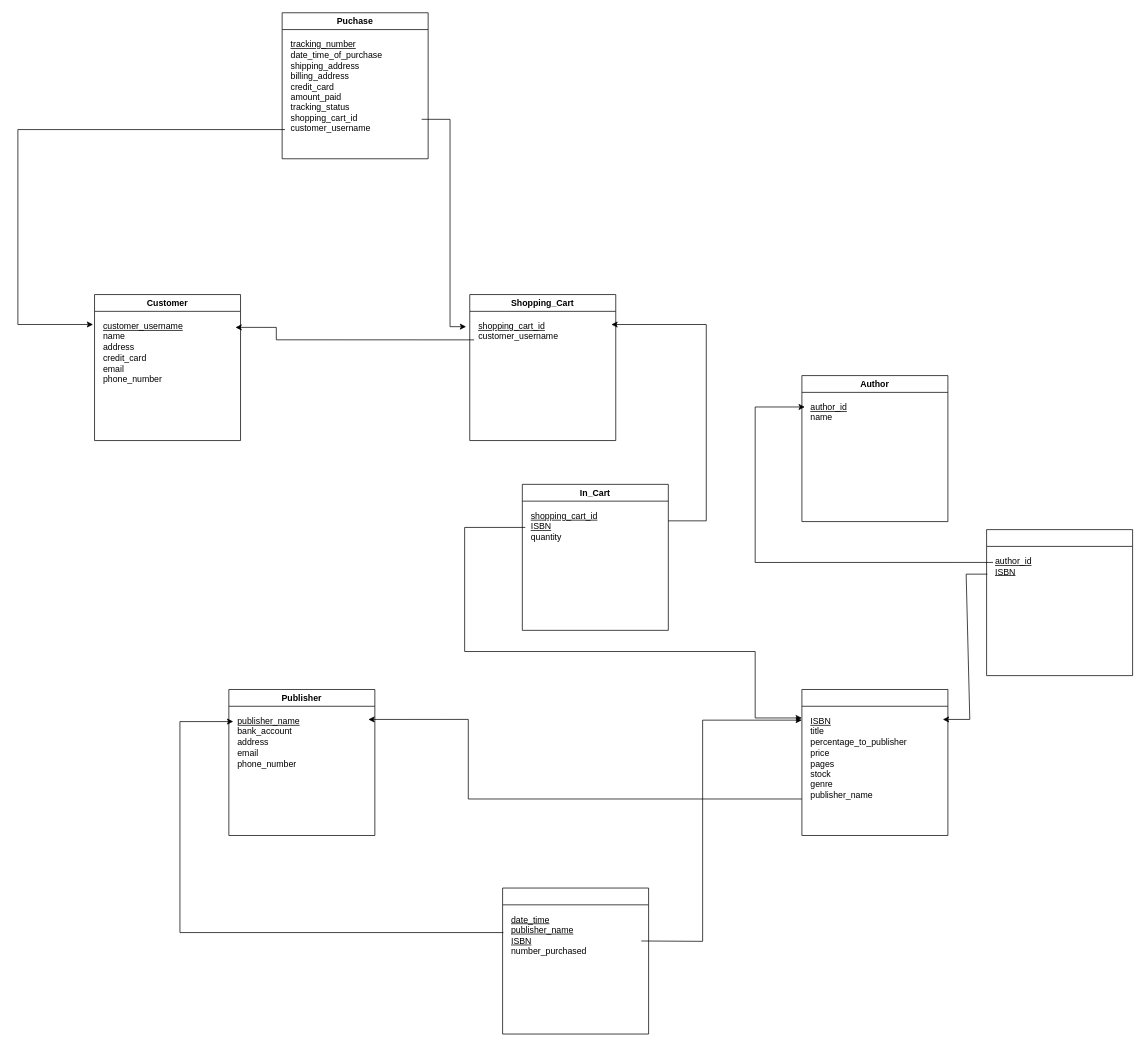
Image size: 1145x1047. Some labels were removed from this diagram. The box of each missing label's shape, as (x1, y1, x2, y2) in pixels:
Book: (801, 689, 948, 835)
Stock_Order: (502, 887, 649, 1034)
Wrote: (986, 529, 1133, 676)
